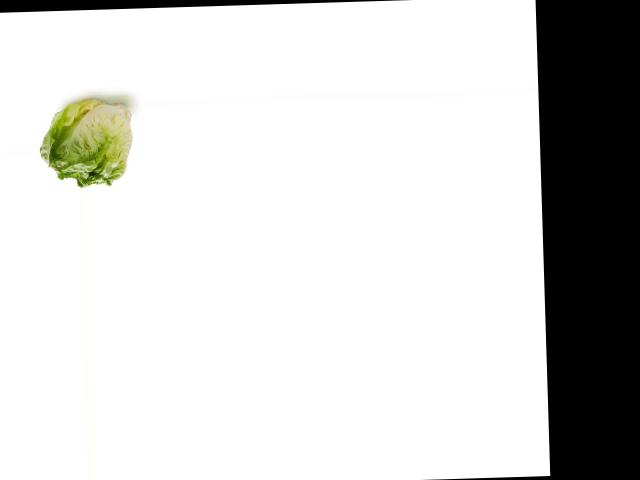lettuce: (33, 99, 140, 191)
